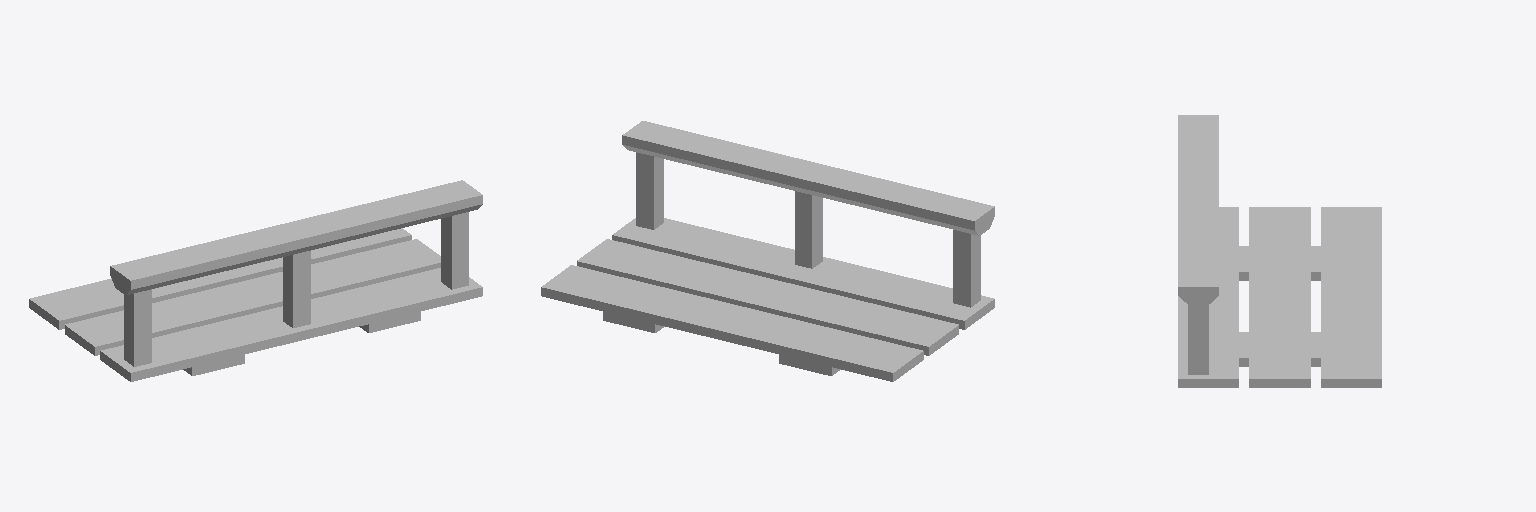
File: scaffold_small_low_railing_long.obj
The picture shows the model from 3 angles: view 1: azimuth 30°, elevation 25°; view 2: azimuth 150°, elevation 25°; view 3: azimuth 270°, elevation 25°; orthographic projection.
Visible parts, largest first — view 1: scaffold_small_low_railing_long_Cube.2465; view 2: scaffold_small_low_railing_long_Cube.2465; view 3: scaffold_small_low_railing_long_Cube.2465.
Part boxes in pixels (bbox=[...]): scaffold_small_low_railing_long_Cube.2465: bbox=[29, 180, 482, 381]; scaffold_small_low_railing_long_Cube.2465: bbox=[541, 121, 994, 381]; scaffold_small_low_railing_long_Cube.2465: bbox=[1178, 115, 1381, 387].
Size of the model in its own units: 4 by 1.2 by 2.